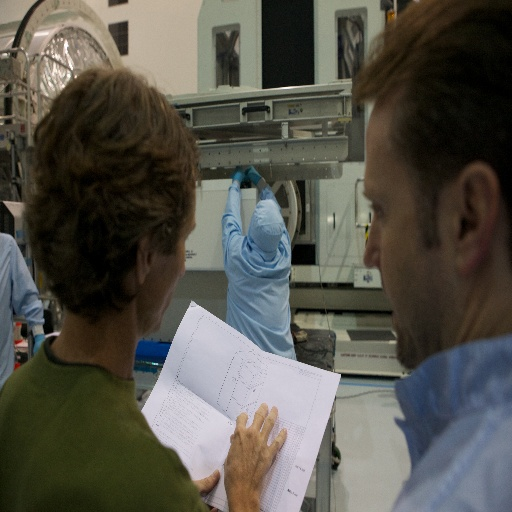hand: (219, 410, 289, 502), (191, 468, 220, 511), (32, 335, 45, 357), (243, 166, 258, 184), (232, 164, 243, 182)
